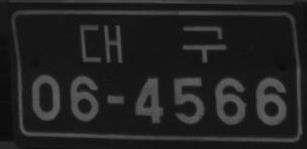0: (31, 72, 60, 120)
4: (135, 76, 163, 123)
5: (172, 76, 204, 124)
6: (254, 75, 287, 127), (69, 74, 100, 122), (214, 76, 245, 124)
대구_D: (79, 23, 227, 63)
